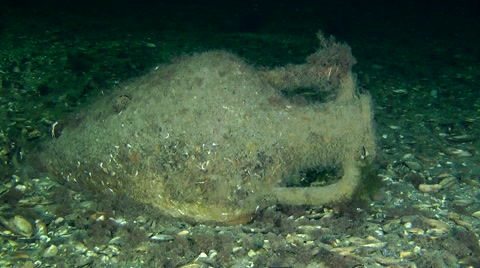amphora: (44, 39, 380, 225)
